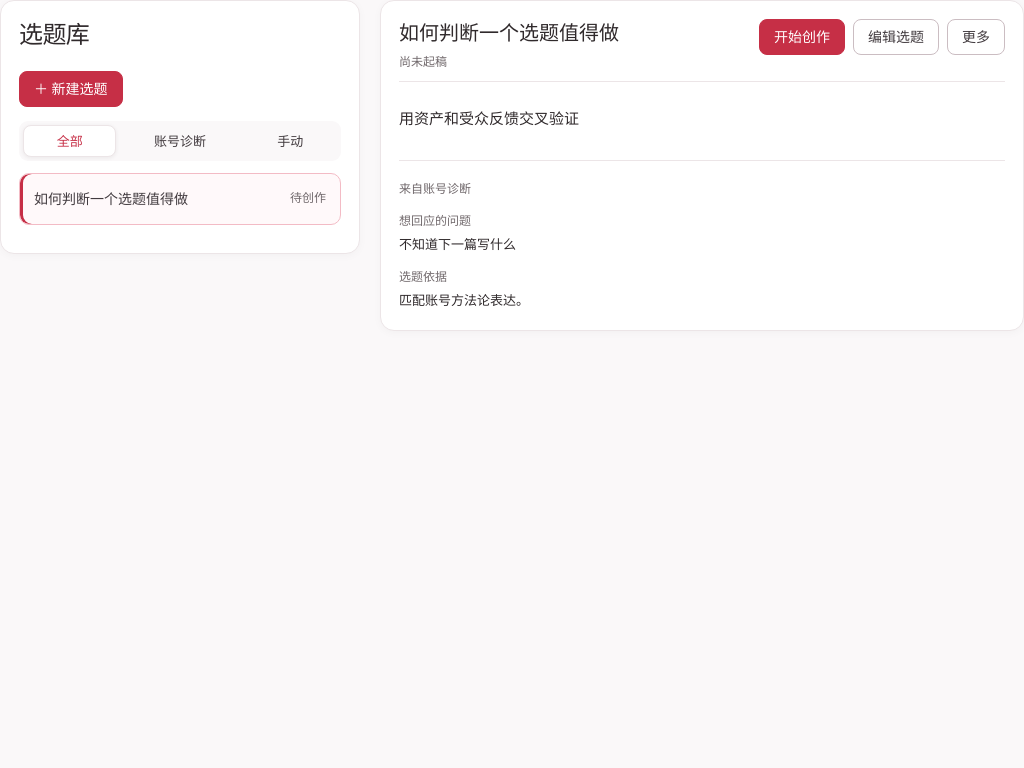
Scenario: TopicLibraryPage › closes the creation dialog on success and gives the library one primary creation action
Expected: the button "开始创作" is enabled, [759, 19, 845, 55]
Expected: the heading "选题库" is shown, [19, 20, 89, 49]
Click the button "＋ 新建选题": x=71, y=89 [19, 71, 122, 107]
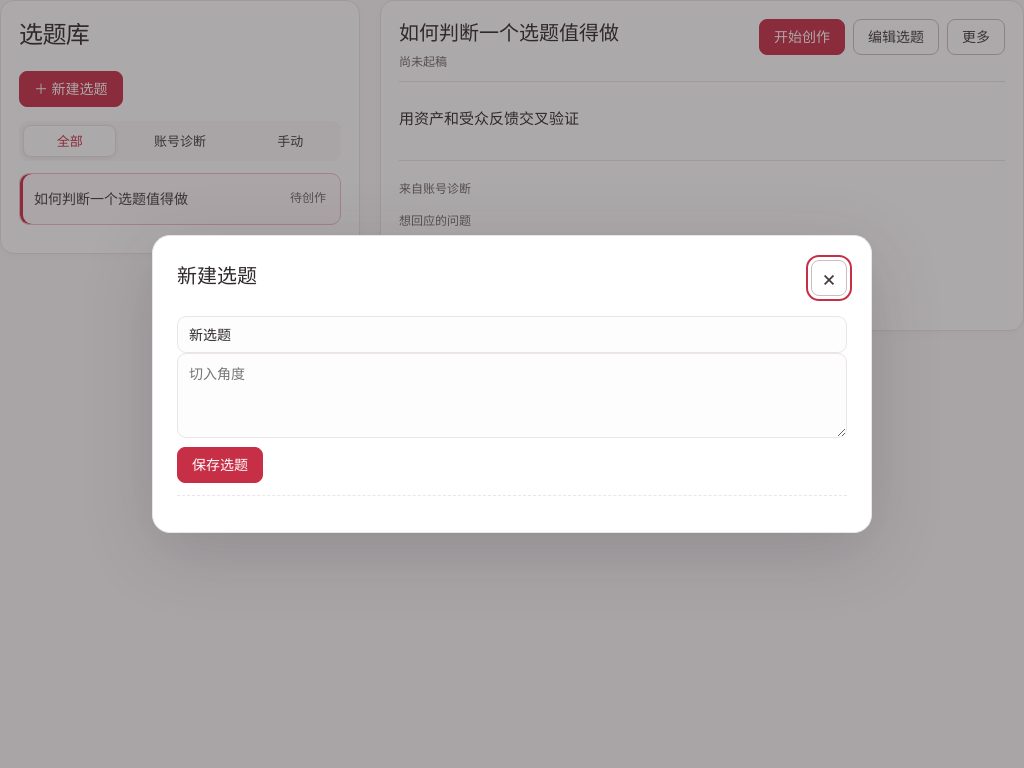
Click the button "保存选题": x=220, y=465 [177, 447, 263, 483]
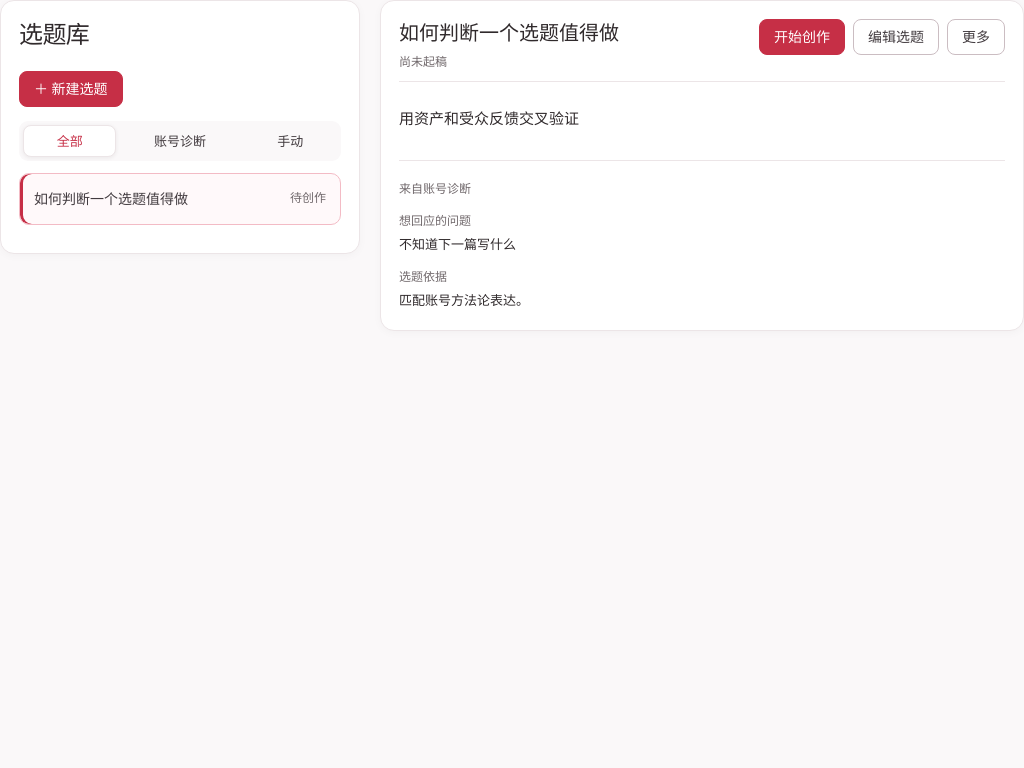
Expected: the dialog is gone
